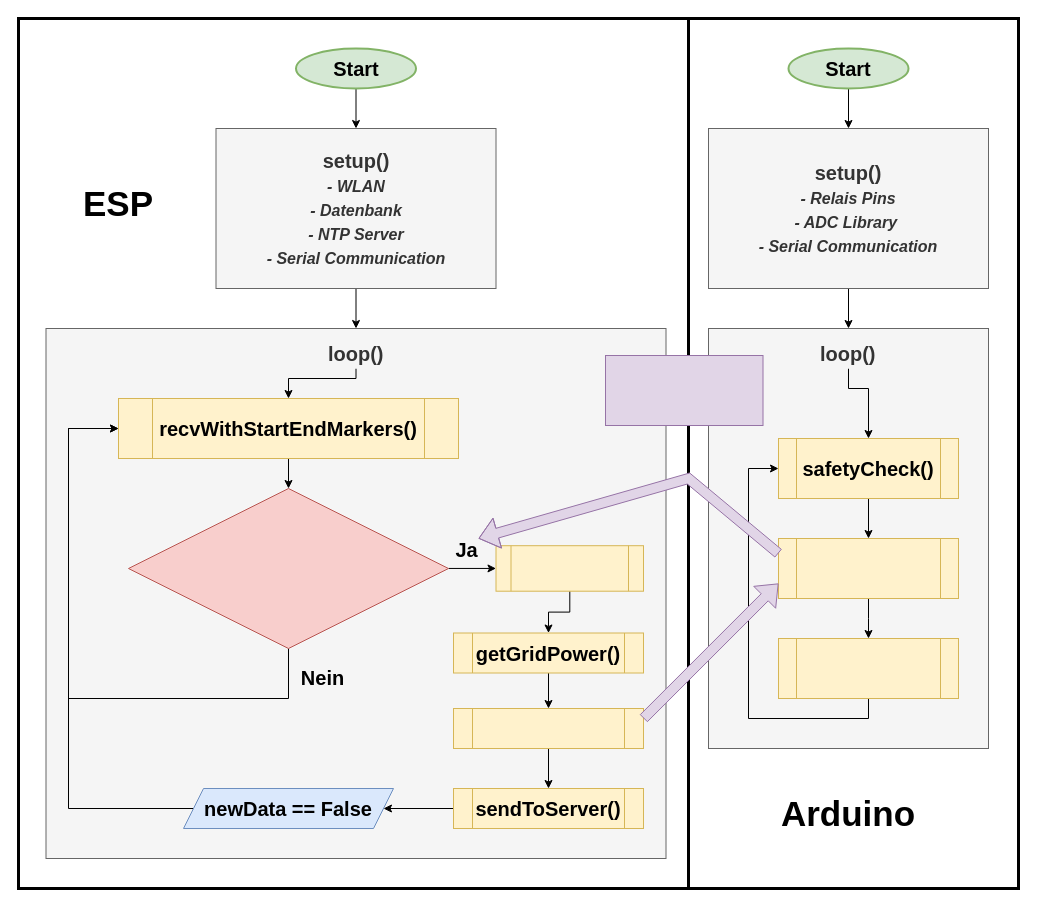
Image size: 1037x907. Some labels were removed from this diagram. The centre of each missing label's shape, as x and y in pixels:
"control()" belongs at point (868, 668).
"getCommand()" belongs at point (868, 568).
"newData == True" belongs at point (288, 568).
"parseData()" belongs at point (569, 568).
"sendCommand()" belongs at point (548, 728).
"serielle Kommunikation" belongs at point (683, 390).
